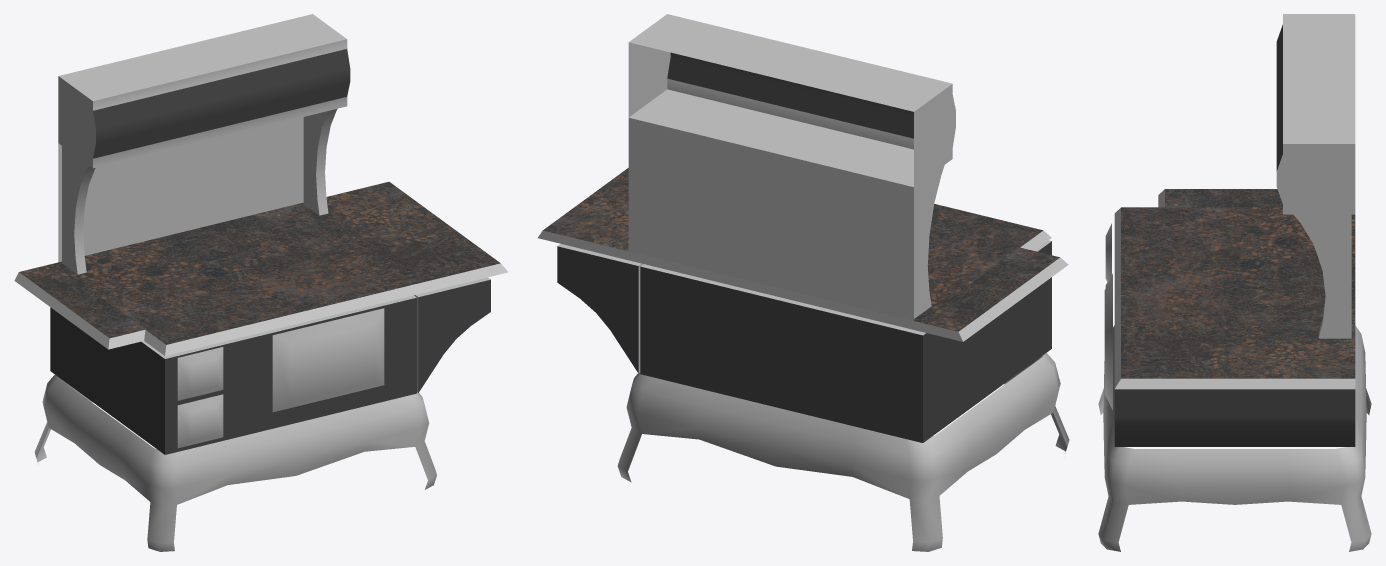
File: SM_Oven.fbx
3 views of the same model, side by side, from view 1: azimuth 30°, elevation 25°; view 2: azimuth 150°, elevation 25°; view 3: azimuth 270°, elevation 25° (orthographic). The views are drawn at different scales.
Parts seen in each view (by area): view 1: Body, BackStove, Pattes, StoveDoor, SmallDoor, SmallDoor.001; view 2: BackStove, Body, Pattes; view 3: Body, BackStove, Pattes, StoveDoor, SmallDoor.
Boxes of the visible parts, x1=… form: Body: x1=14, y1=181, x2=507, y2=454; BackStove: x1=58, y1=14, x2=350, y2=274; Pattes: x1=34, y1=375, x2=436, y2=551; StoveDoor: x1=272, y1=308, x2=384, y2=412; SmallDoor: x1=177, y1=347, x2=223, y2=400; SmallDoor.001: x1=177, y1=394, x2=223, y2=448; BackStove: x1=628, y1=14, x2=955, y2=320; Body: x1=538, y1=168, x2=1068, y2=442; Pattes: x1=617, y1=353, x2=1069, y2=551; Body: x1=1114, y1=189, x2=1355, y2=446; BackStove: x1=1276, y1=14, x2=1355, y2=338; Pattes: x1=1098, y1=325, x2=1371, y2=551; StoveDoor: x1=1104, y1=273, x2=1112, y2=410; SmallDoor: x1=1105, y1=223, x2=1111, y2=282.
Size of the model in its own units: 187 by 181 by 111.
